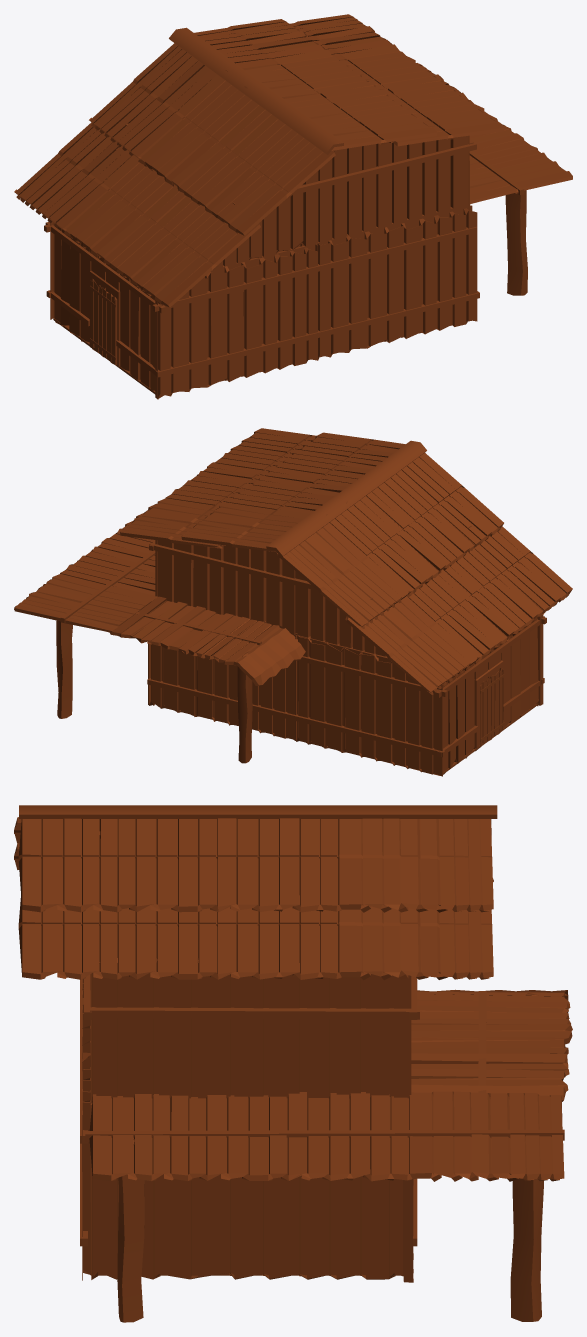
The model's file is HouseTest.fbx.
3 renders of one model, top to bottom at view 1: azimuth 30°, elevation 25°; view 2: azimuth 150°, elevation 25°; view 3: azimuth 270°, elevation 25°, orthographic. The views are drawn at different scales.
Visible parts, largest first — view 1: Plane.010, Cube.005, Cube.001, Plane.011, Plane.013, Plane.007, Plane.012, Cube.002; view 2: Plane.010, Cube.001, Cube.003, Plane.011, Plane.007, Plane.013, Plane.012, Cube.002, Plane.008, Cube.005, Plane.009; view 3: Plane.011, Cube.004, Plane.007, Cube.001, Plane.012, Plane.013, Plane.008, Cube.005, Cube.003, Plane.009.
Boxes of the visible parts, x1=… form: Plane.010: x1=14, y1=43, x2=335, y2=307; Cube.005: x1=155, y1=208, x2=477, y2=399; Cube.001: x1=53, y1=136, x2=527, y2=398; Plane.011: x1=194, y1=14, x2=504, y2=150; Plane.013: x1=44, y1=123, x2=479, y2=377; Plane.007: x1=416, y1=63, x2=572, y2=203; Plane.012: x1=169, y1=27, x2=343, y2=154; Cube.002: x1=89, y1=280, x2=117, y2=365; Plane.010: x1=277, y1=453, x2=572, y2=694; Cube.001: x1=56, y1=540, x2=538, y2=775; Cube.003: x1=148, y1=635, x2=442, y2=776; Plane.011: x1=120, y1=428, x2=405, y2=552; Plane.007: x1=14, y1=504, x2=305, y2=685; Plane.013: x1=147, y1=525, x2=546, y2=757; Plane.012: x1=266, y1=440, x2=426, y2=557; Cube.002: x1=480, y1=669, x2=504, y2=747; Plane.008: x1=60, y1=550, x2=155, y2=623; Cube.005: x1=537, y1=614, x2=543, y2=705; Plane.009: x1=135, y1=612, x2=261, y2=645; Plane.011: x1=18, y1=818, x2=493, y2=980; Cube.004: x1=90, y1=958, x2=411, y2=1279; Plane.007: x1=89, y1=989, x2=572, y2=1181; Cube.001: x1=90, y1=831, x2=543, y2=1322; Plane.012: x1=19, y1=805, x2=497, y2=818; Plane.013: x1=80, y1=974, x2=419, y2=1246; Plane.008: x1=85, y1=1129, x2=564, y2=1142; Cube.005: x1=82, y1=979, x2=90, y2=1280; Cube.003: x1=403, y1=1179, x2=413, y2=1282; Plane.009: x1=478, y1=991, x2=486, y2=1092.
Size of the model in its own units: 1422 by 732 by 1041.
